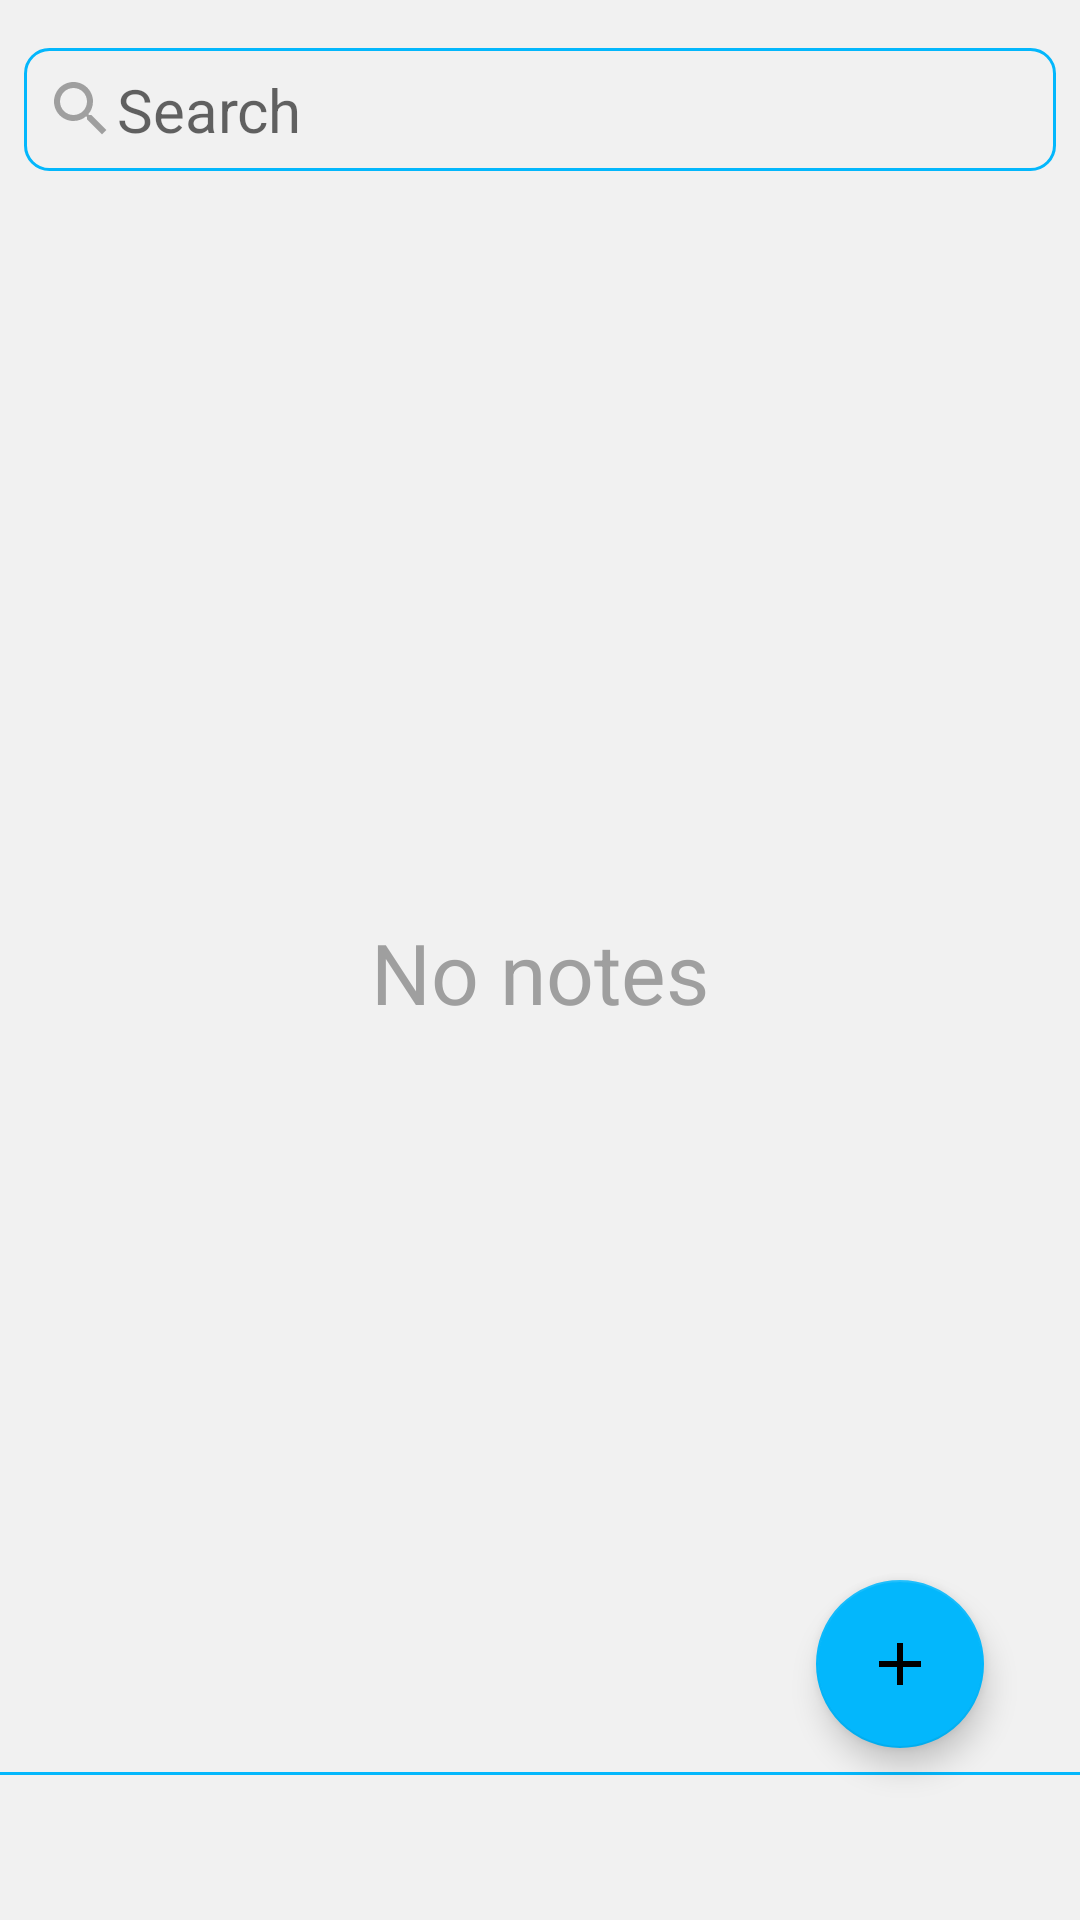

Icon bounding boxes for this 1080w x 1920h phone screenshot, format {"left": x1, "top": y1, "right": x2, "bottom": y2}:
add: {"left": 816, "top": 1580, "right": 984, "bottom": 1748}
